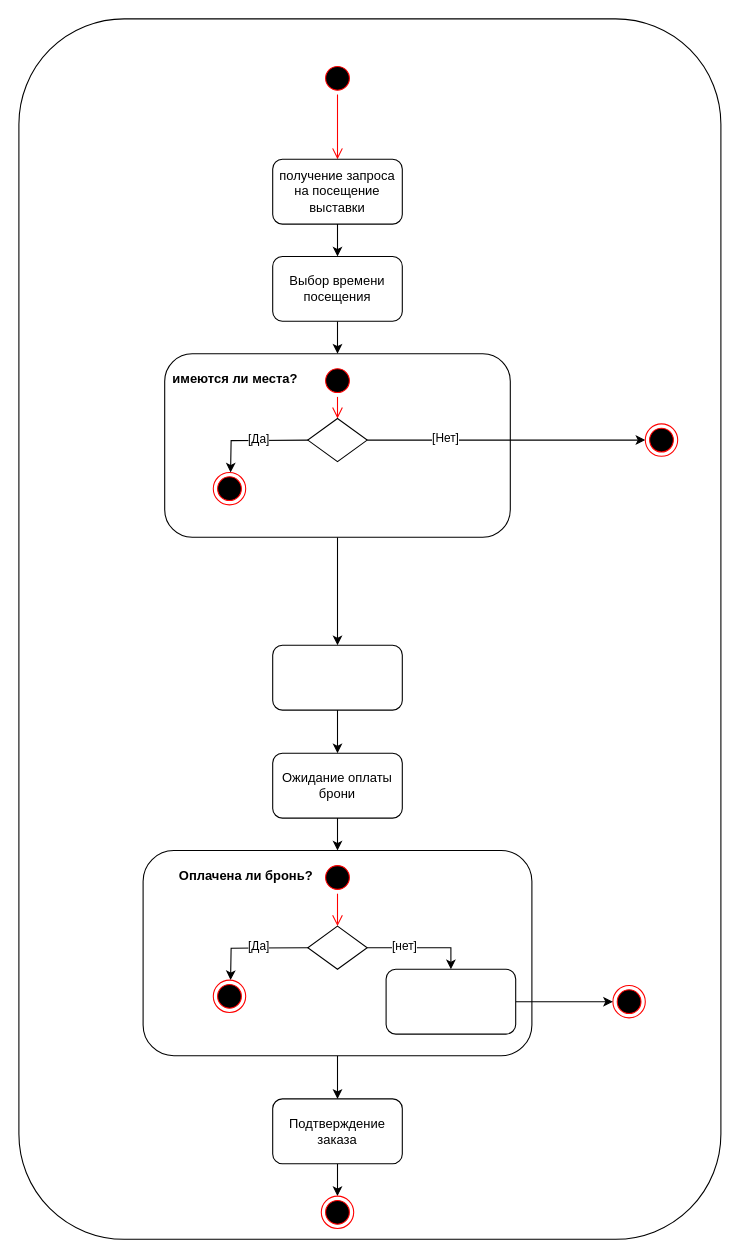
Some shapes in this 740 by 1258 pixel diagram are drawn without their labels. Here are the shapes that lost their labels. From the top down, the centre of each, then its label:
the point at 337,677: Бронирование
the point at 450,1001: Отмена брони
